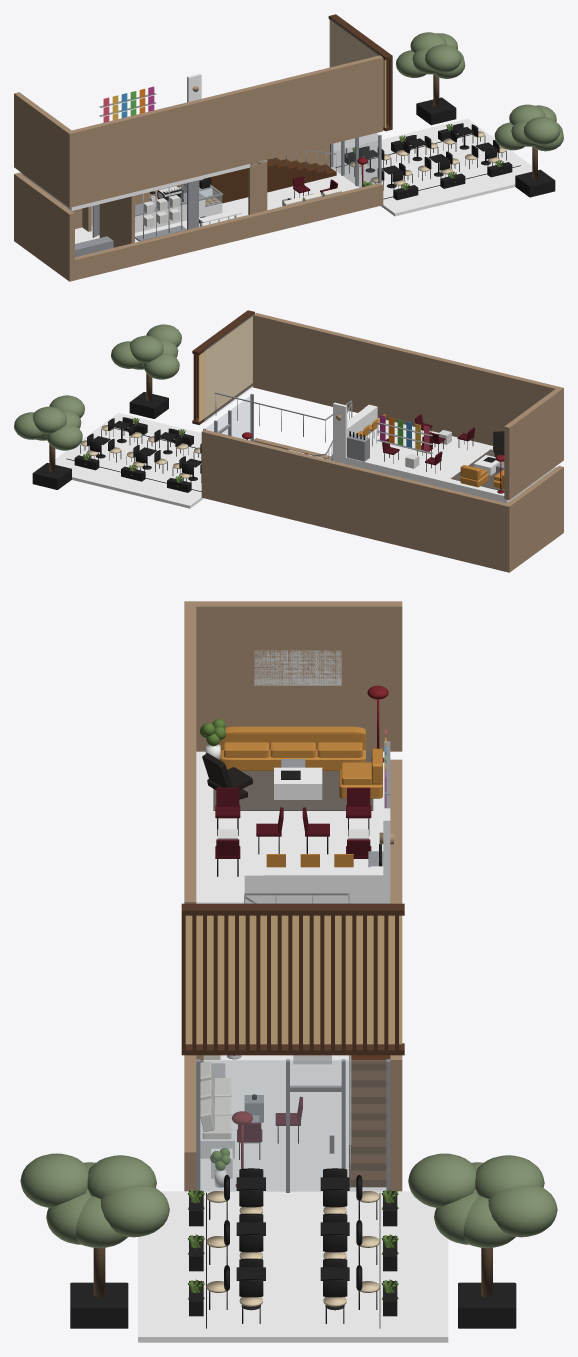
File: cafe-3d.glb
3 renders of one model, top to bottom at view 1: azimuth 30°, elevation 25°; view 2: azimuth 150°, elevation 25°; view 3: azimuth 270°, elevation 25°, orthographic. The views are drawn at different scales.
Parts seen in each view (by area): view 1: uw_side_b, out_floor, wall_side_b, uw_back, wall_back, floor_g, front_glass, part, slat_glow, u_glass, wall_side_t, landing_wall (+17 smaller); view 2: wall_side_t, uw_side_b, out_floor, slab_a, uw_back, wall_back, slat_glow, u_glass, front_glass, tree_box, tree_box.001, canopy.009 (+12 smaller); view 3: out_floor, uw_back, front_glass, slat_glow, floor_g, slab_a, ubar, uw_side_b, wall_side_t, frame_u, slat_top, canopy.005 (+17 smaller).
Boxes of the visible parts, x1,y1,x2,y2 form: uw_side_b: [72, 55, 383, 206]; out_floor: [332, 118, 532, 216]; wall_side_b: [75, 183, 383, 280]; uw_back: [14, 92, 74, 207]; wall_back: [14, 172, 74, 281]; floor_g: [75, 167, 358, 243]; front_glass: [332, 133, 378, 187]; part: [99, 195, 134, 247]; slat_glow: [329, 20, 386, 127]; u_glass: [331, 19, 379, 66]; wall_side_t: [20, 144, 329, 228]; landing_wall: [248, 161, 267, 214]; wall_side_t: [201, 429, 506, 571]; uw_side_b: [253, 313, 558, 445]; out_floor: [55, 413, 203, 508]; slab_a: [332, 420, 555, 503]; uw_back: [504, 386, 563, 500]; wall_back: [504, 466, 563, 572]; slat_glow: [198, 316, 252, 421]; u_glass: [204, 315, 252, 422]; front_glass: [205, 395, 251, 440]; tree_box: [129, 392, 168, 418]; tree_box.001: [32, 463, 71, 489]; canopy.009: [33, 406, 66, 434]; out_floor: [138, 1191, 448, 1342]; uw_back: [184, 601, 402, 751]; front_glass: [200, 1060, 385, 1191]; slat_glow: [185, 915, 402, 1044]; floor_g: [200, 1055, 386, 1191]; slab_a: [196, 751, 384, 903]; ubar: [244, 867, 370, 903]; uw_side_b: [184, 606, 196, 903]; wall_side_t: [390, 764, 402, 1191]; frame_u: [254, 650, 341, 685]; slat_top: [181, 903, 404, 915]; canopy.005: [20, 1153, 88, 1207].
Bounding box in the file's own units: 22.08 × 6.72 × 11.08.
